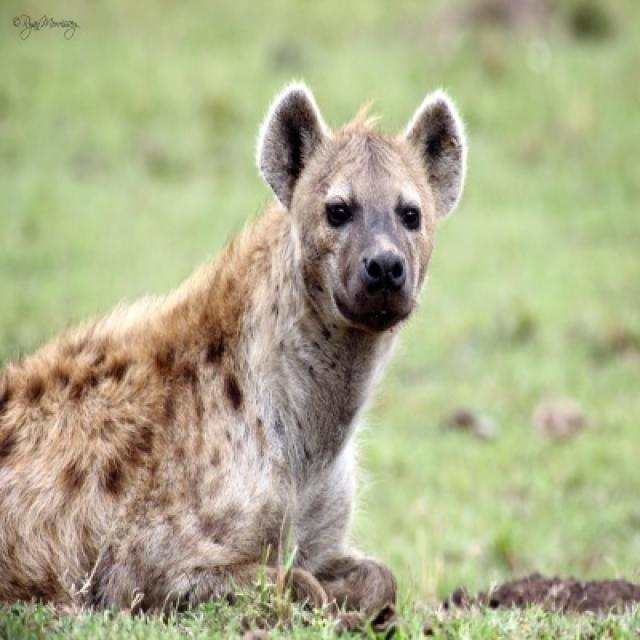hyena: (0, 83, 470, 632)
